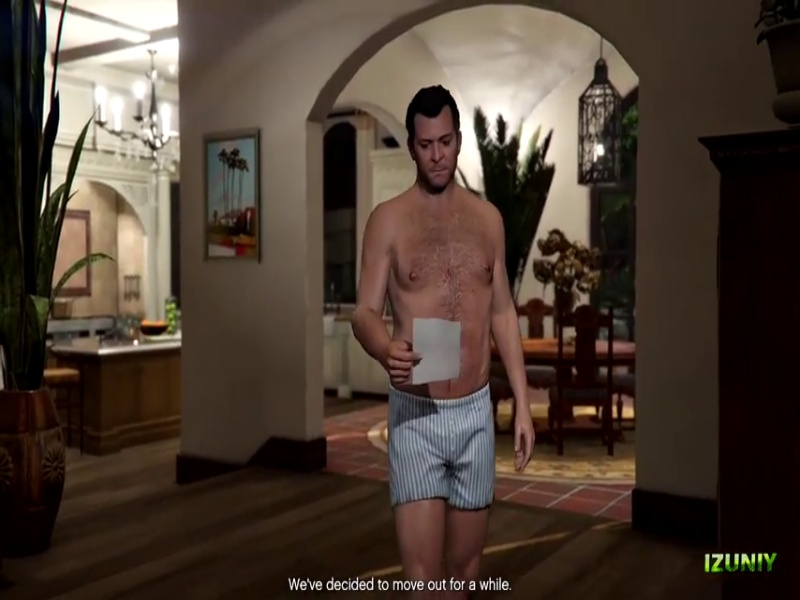human: (359, 80, 526, 575)
